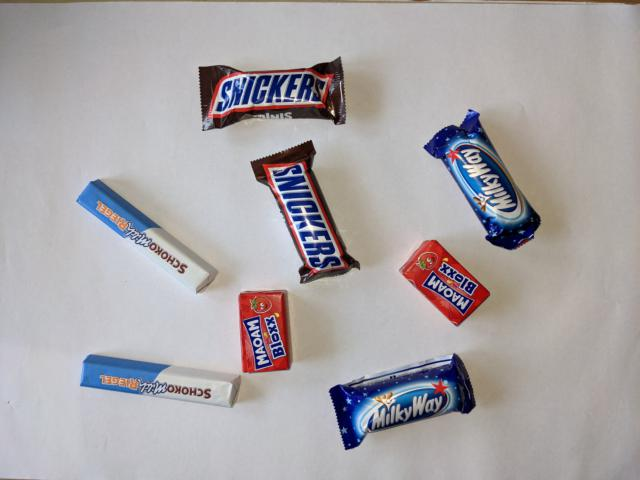MAOAM: (396, 237, 494, 329), (234, 286, 295, 376)
MilkyWay: (420, 106, 545, 252), (326, 351, 478, 454)
Schokoriegel: (72, 175, 223, 300), (76, 352, 245, 414)
Snickers: (248, 138, 363, 288), (194, 54, 349, 136)
